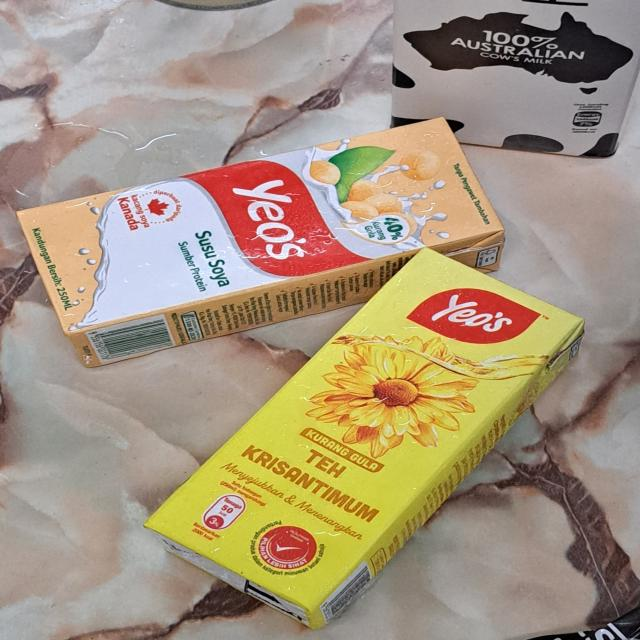drink carton: (148, 245, 580, 630), (16, 118, 502, 365), (392, 0, 640, 160)
